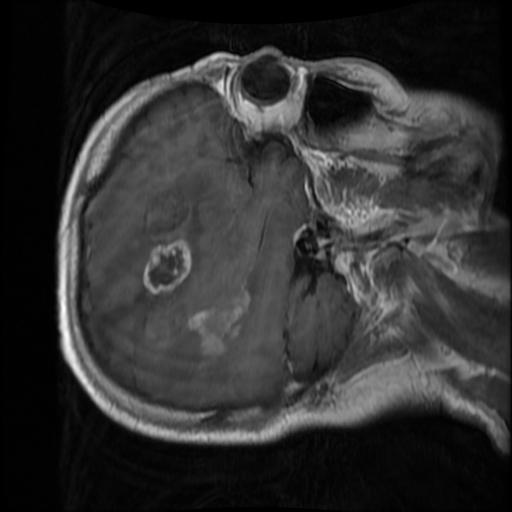glioma: (142, 237, 191, 295)
